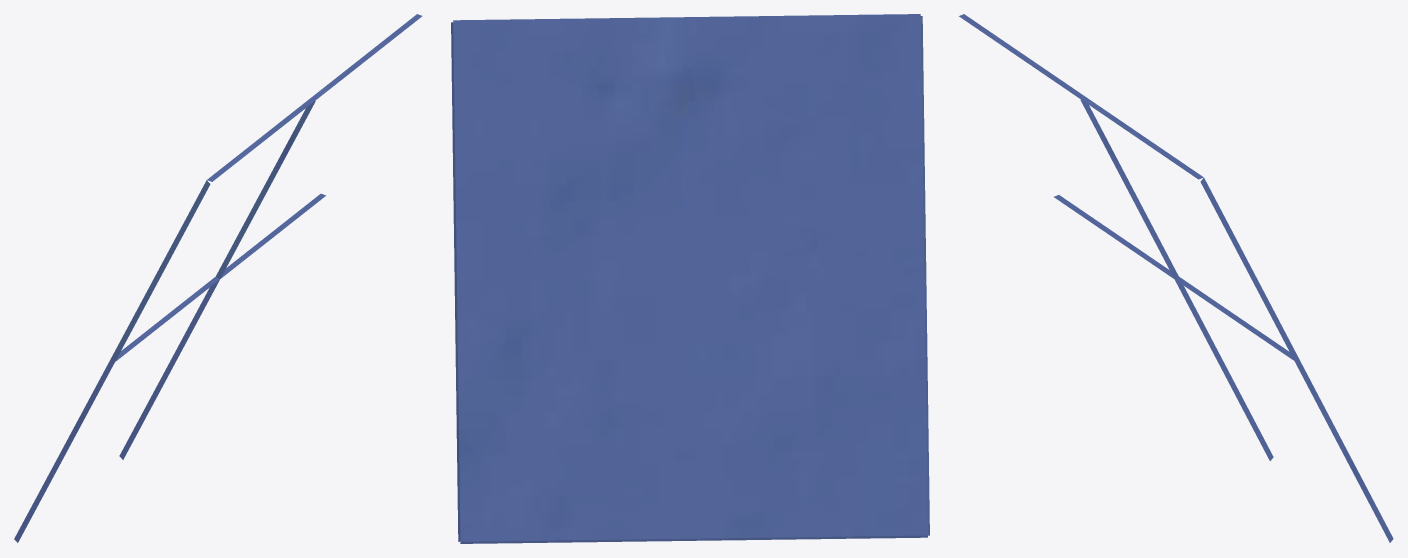
The picture shows the model from 3 angles, left to right: view 1: azimuth 30°, elevation 25°; view 2: azimuth 150°, elevation 25°; view 3: azimuth 270°, elevation 25°; orthographic projection. The views are drawn at different scales.
Size of the model in its own units: 39457 by 35523 by 33744.
1 material, 1 textured.
